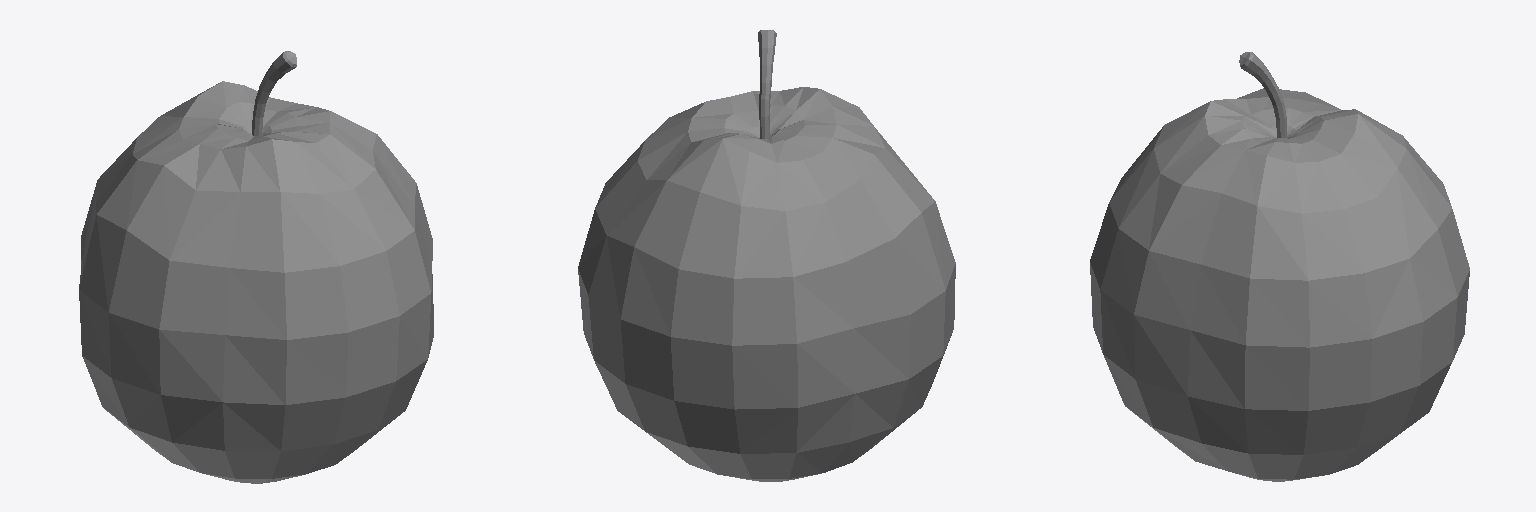
The model's file is apple_01.obj.
The picture shows the model from 3 angles: view 1: azimuth 30°, elevation 25°; view 2: azimuth 150°, elevation 25°; view 3: azimuth 270°, elevation 25°; orthographic projection.
Parts seen in each view (by area): view 1: apple_01_apple_01_Mesh.020; view 2: apple_01_apple_01_Mesh.020; view 3: apple_01_apple_01_Mesh.020.
Part boxes in pixels (bbox=[...]): apple_01_apple_01_Mesh.020: bbox=[79, 51, 433, 483]; apple_01_apple_01_Mesh.020: bbox=[578, 30, 955, 481]; apple_01_apple_01_Mesh.020: bbox=[1090, 52, 1469, 481].
Bounding box in the file's own units: 0.0598 × 0.0741 × 0.0605.